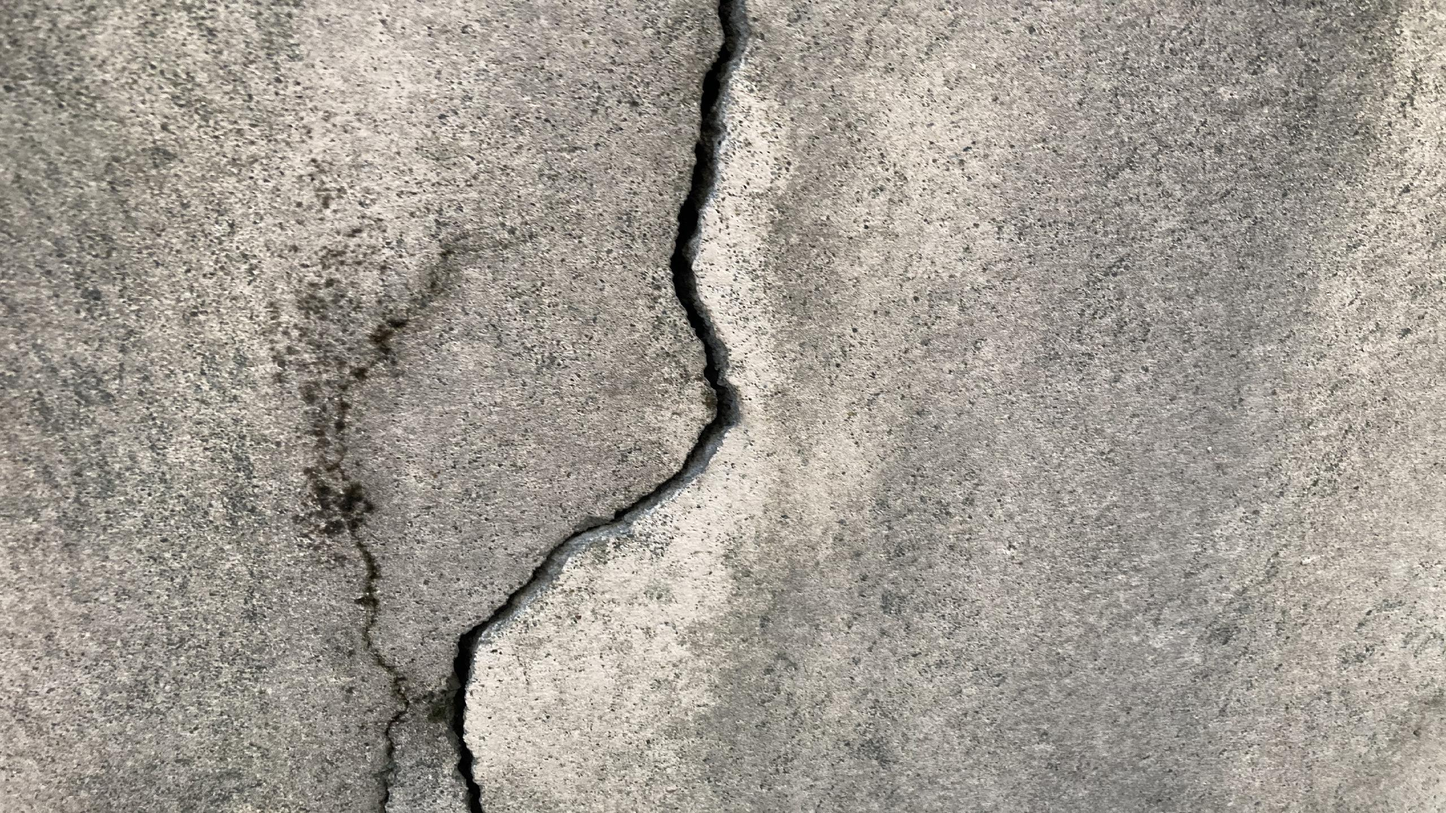crack: (442, 1, 750, 810), (300, 241, 510, 812)
